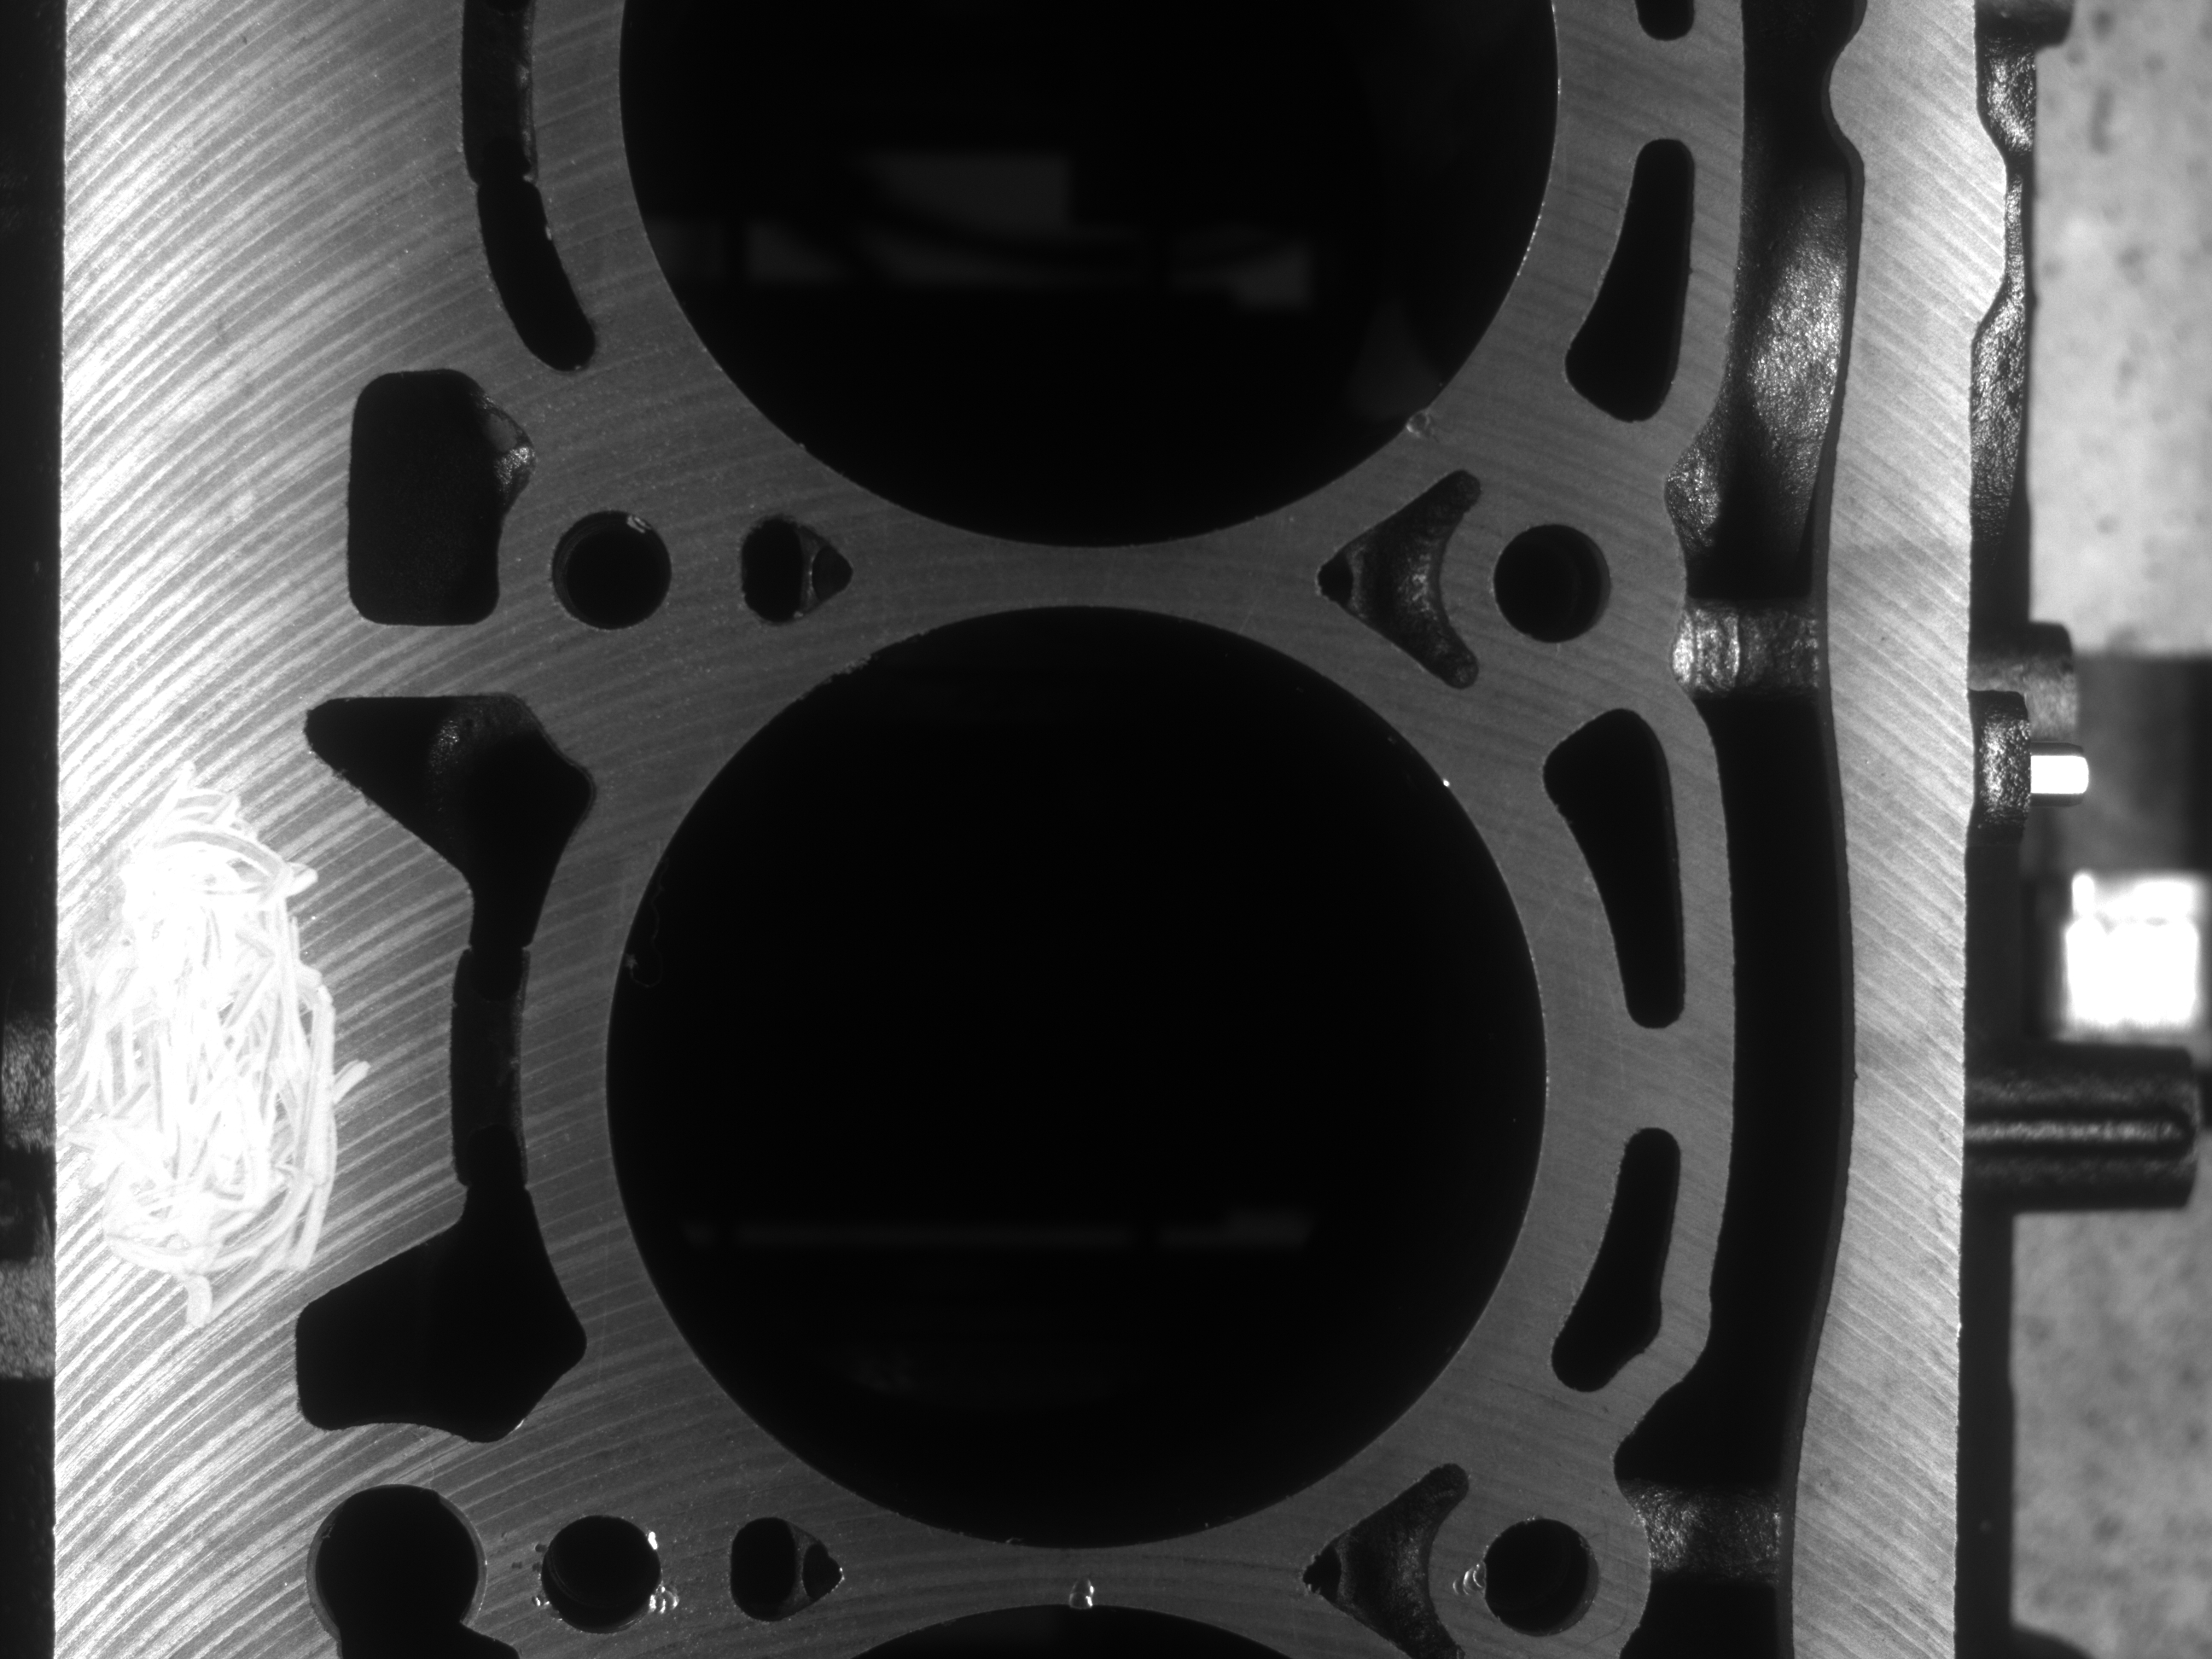dirty: (66, 786, 329, 1328)
shrinkage: (1064, 1570, 1113, 1614), (637, 1572, 683, 1614), (1397, 401, 1435, 443), (1444, 1558, 1480, 1600)
